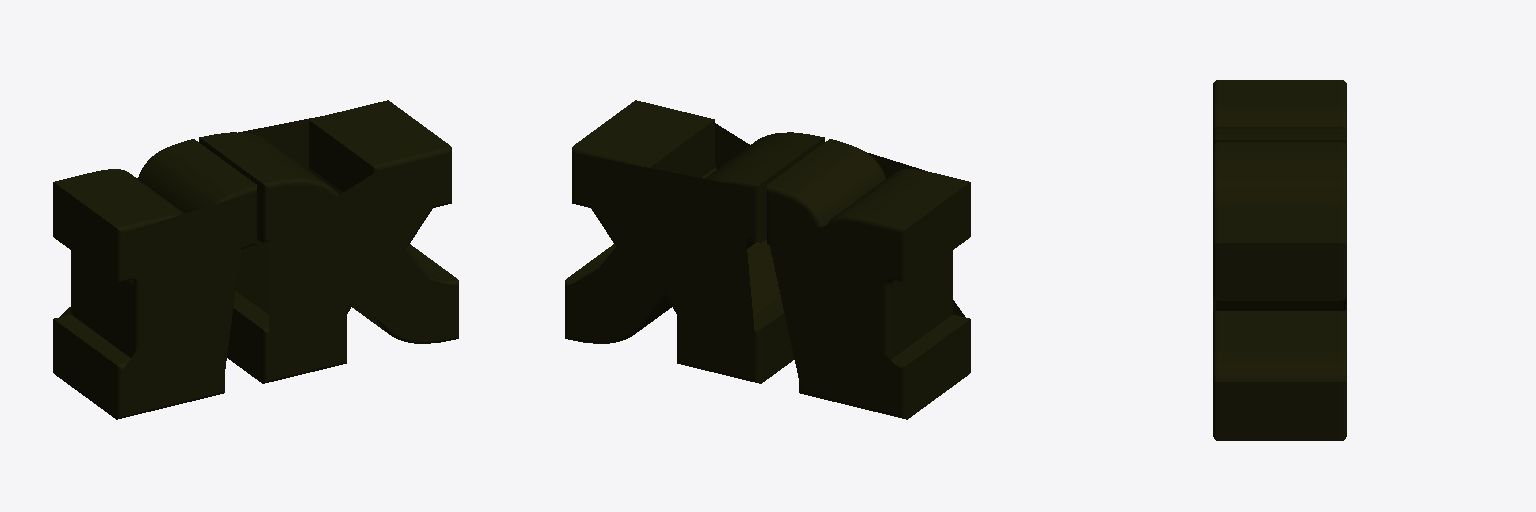
The picture shows the model from 3 angles: view 1: azimuth 30°, elevation 25°; view 2: azimuth 150°, elevation 25°; view 3: azimuth 270°, elevation 25°; orthographic projection.
Parts seen in each view (by area): view 1: RX_Extrude; view 2: RX_Extrude; view 3: RX_Extrude.
Part boxes in pixels (bbox=[...]): RX_Extrude: bbox=[53, 100, 458, 419]; RX_Extrude: bbox=[565, 100, 970, 419]; RX_Extrude: bbox=[1213, 80, 1346, 440].
Bounding box in the file's own units: 39.71 × 22.51 × 13.5.